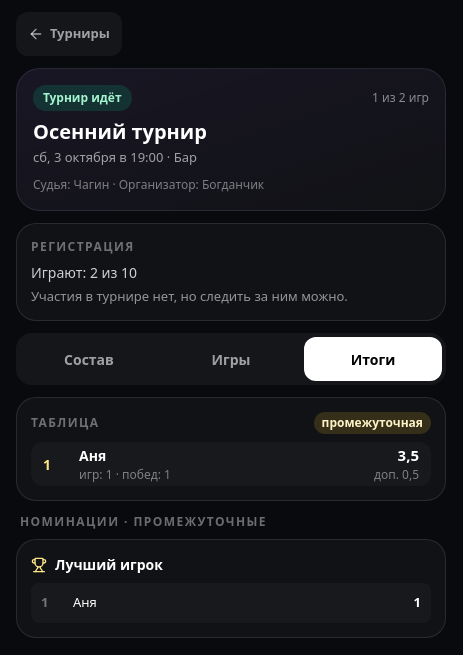
it: player tournament view (owner, 2026-10-06) › opens a running tournament on its live table and nominations, with roles of finished games only
The width and height of the screenshot is (463, 655).
Check: the element with test id "player-tournament-standings" is shown, box [16,397,446,501]
Check: the text "промежуточная" is shown, box [314,412,431,434]
Click the tab with test id "player-tournament-tab-games".
click(231, 359)  # box [162,337,300,381]
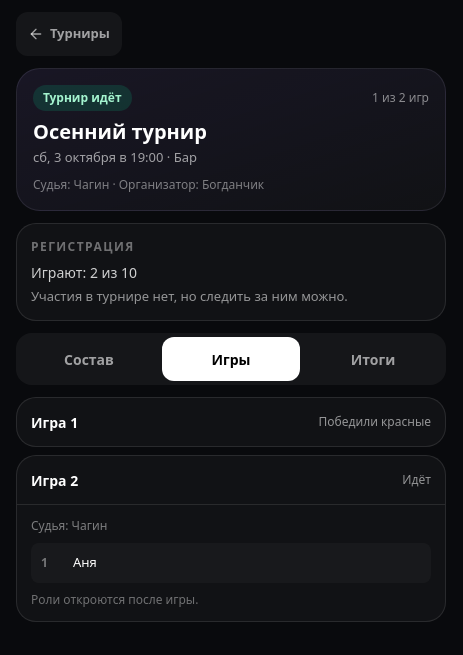
Check: the element with test id "player-tournament-games" shows "Роли откроются после игры", box [31,591,198,608]
Click the tab with test id "player-tournament-tab-roster".
click(89, 359)  # box [20,337,158,381]
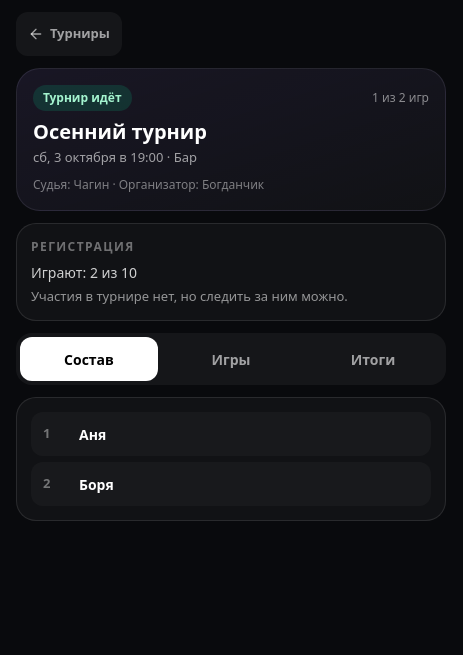
Check: the element with test id "player-tournament-roster" shows "Боря", box [79,474,114,494]
